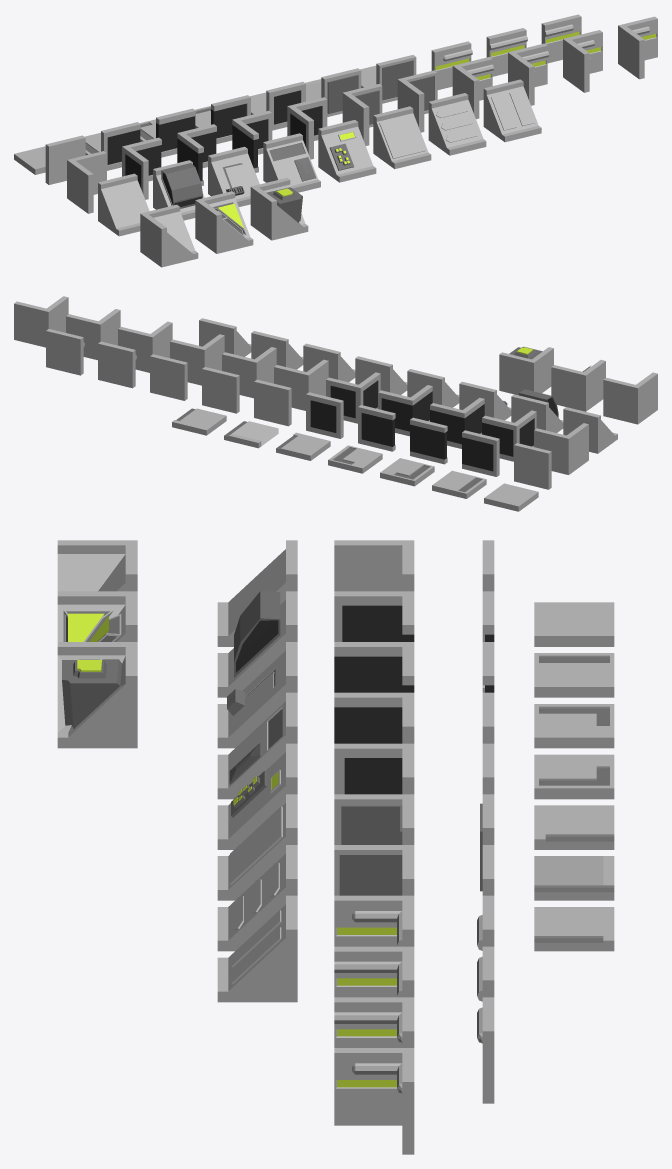
Rendered from tileset.glb.
3 renders of one model, top to bottom at view 1: azimuth 30°, elevation 25°; view 2: azimuth 150°, elevation 25°; view 3: azimuth 270°, elevation 25°, orthographic. The views are drawn at different scales.
Parts seen in each view (by area): view 1: Corner2, AngledEdge7, AngledEdge6, Corner1, AngledEdge5, AngledEdge4, Corner0, AngledEdge0, AngledEdge3, AngledEdge1, AngledEdge2, CornerWallPipeHR (+21 smaller); view 2: Corner2, Corner0, Corner1, CornerWallPipe, CornerWall0, CornerWallWindowHL, CornerWallWindow, CornerWall1, CornerWallPipeHL, CornerWallWindowH, CornerWallWindowHR, CornerWall2 (+27 smaller); view 3: Corner2, CornerWallPipe, AngledEdge7, AngledEdge1, CornerWall0, CornerWallWindowHR, CornerWallPipeHL, Corner0, CornerWallWindow, CornerWallPipeH, AngledEdge2, CornerWallWindowHL (+20 smaller).
Part boxes in pixels (x1,y1,x2,y2): Corner2: (250,178,308,240); AngledEdge7: (483,79,541,142); AngledEdge6: (428,93,486,155); Corner1: (195,191,253,253); AngledEdge5: (373,106,431,169); AngledEdge4: (318,120,376,182); Corner0: (140,204,198,267); AngledEdge0: (98,173,149,236); AngledEdge3: (263,133,320,192); AngledEdge1: (153,160,204,220); AngledEdge2: (208,146,259,206); CornerWallPipeHR: (563,30,602,92); Corner2: (499,346,553,395); Corner0: (603,372,657,424); Corner1: (551,360,605,411); CornerWallPipe: (14,296,68,347); CornerWall0: (534,423,588,474); CornerWallWindowHL: (482,410,536,461); CornerWallWindow: (326,372,380,423); CornerWall1: (274,359,328,410); CornerWallPipeHL: (170,334,224,385); CornerWallWindowH: (430,397,484,448); CornerWallWindowHR: (378,385,432,436); CornerWall2: (222,347,276,398); Corner2: (57,642,137,748); CornerWallPipe: (334,1048,414,1154); AngledEdge7: (217,895,297,1002); AngledEdge1: (217,591,297,697); CornerWall0: (334,540,414,591); CornerWallWindowHR: (334,692,414,743); CornerWallPipeHL: (334,895,414,946); Corner0: (57,540,137,591); CornerWallWindow: (334,743,414,794); CornerWallPipeH: (334,946,414,997); AngledEdge2: (217,642,297,748); CornerWallWindowHL: (334,591,414,641).
Size of the model in its own units: 32 by 2.08 by 13.91.
Materials: 1 (1 with a texture image).
